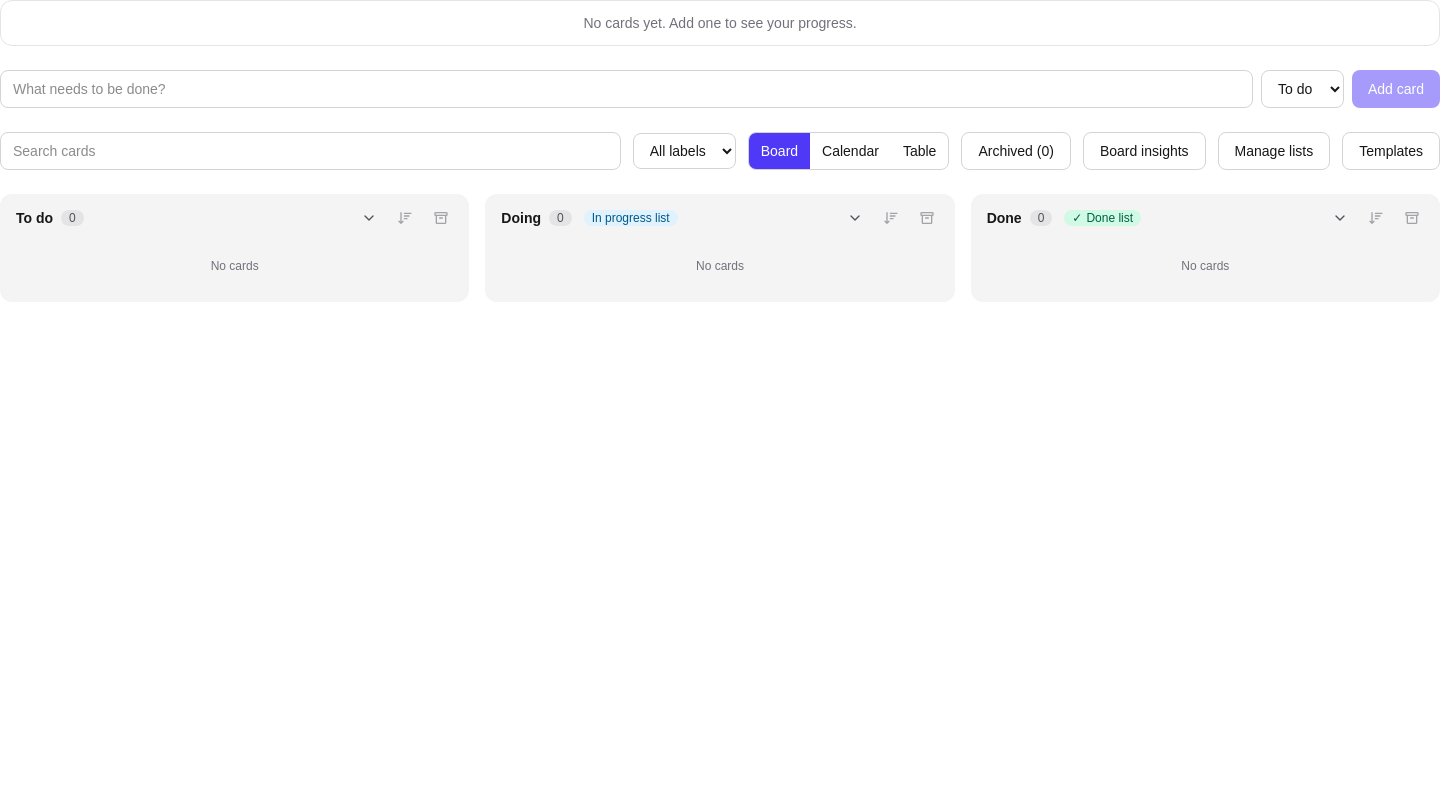
Test: <Board /> custom lists › adds a list
Click the button "Manage lists" at (1274, 151), box [1218,132,1330,170]
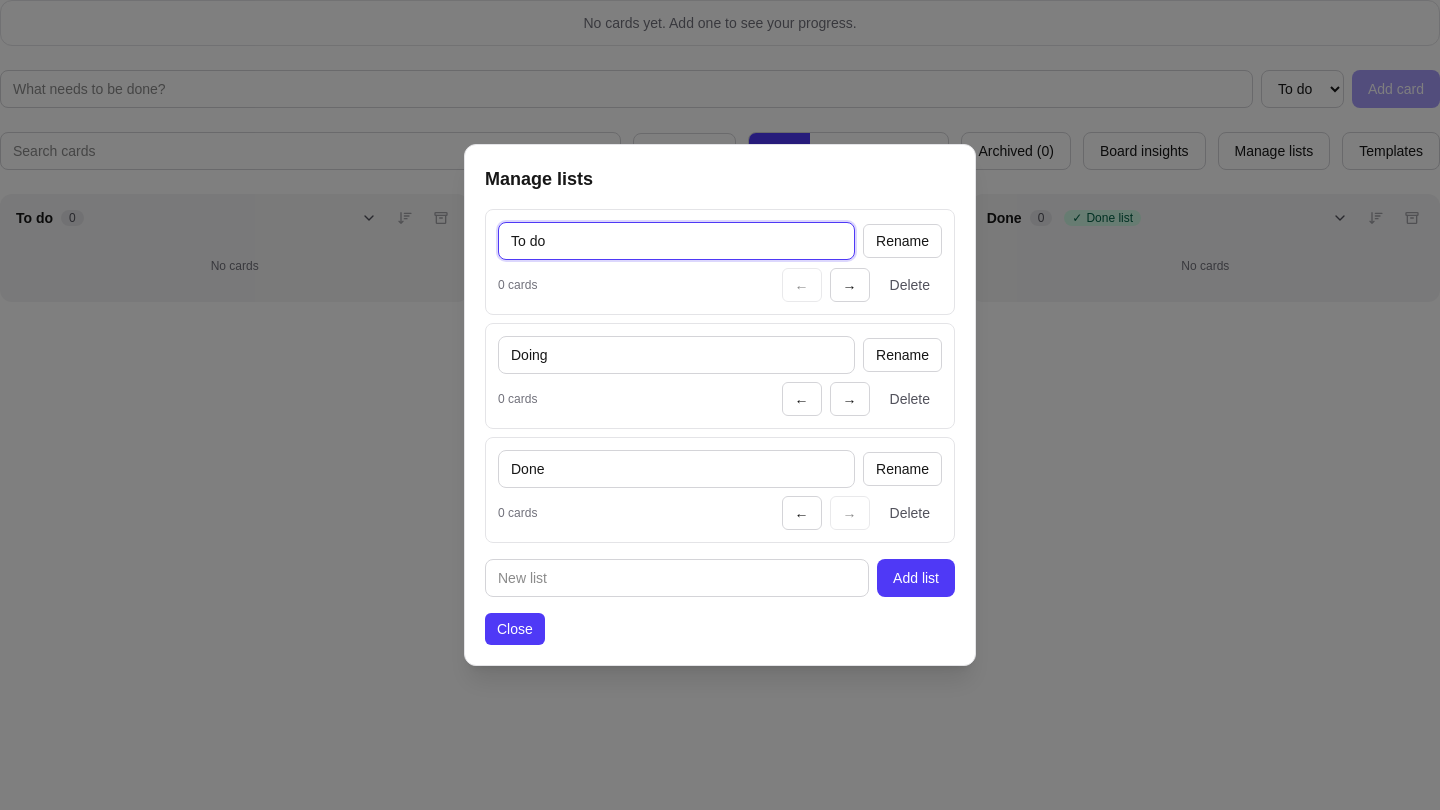
Type "Review" into the field named "New list name" at (677, 578), box [485,559,869,597]
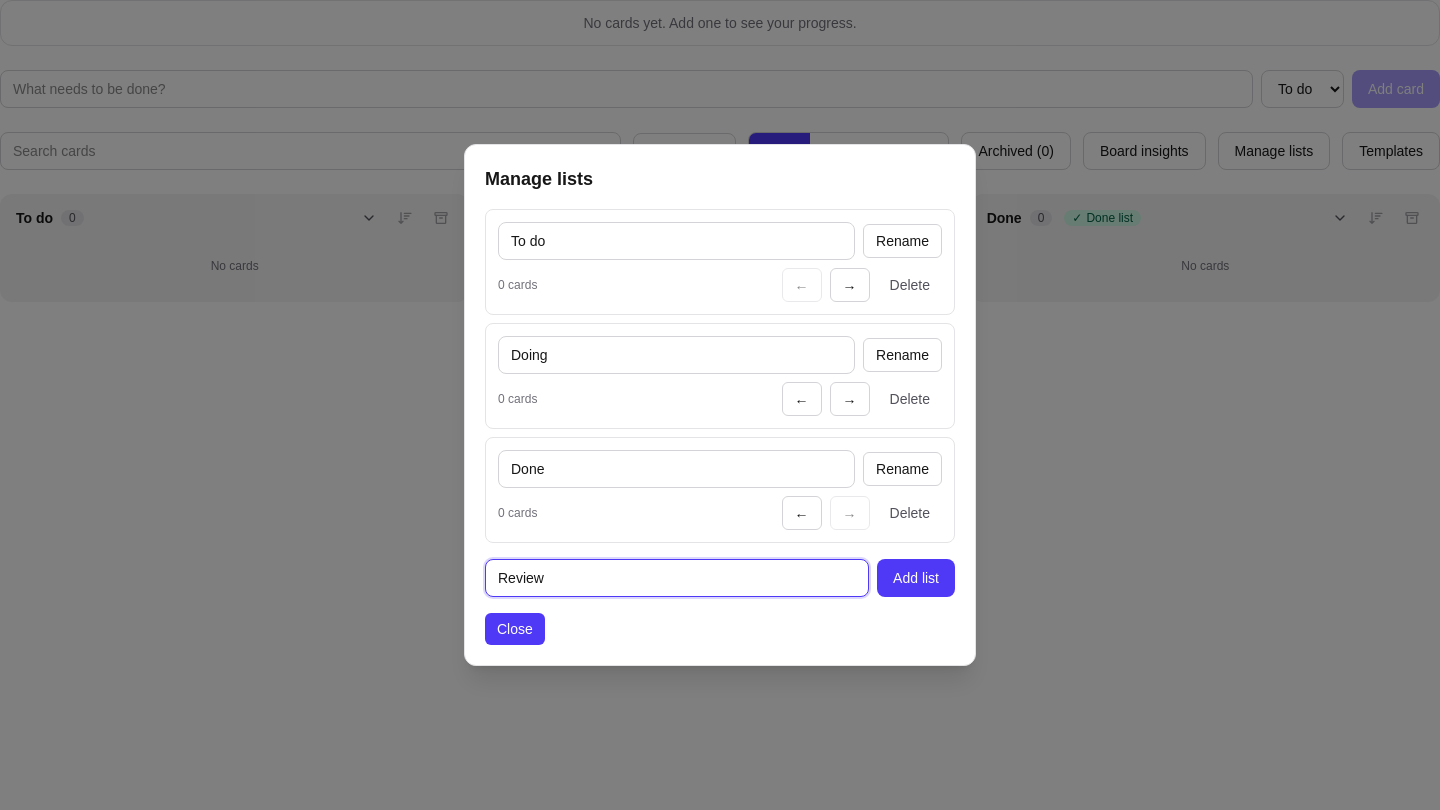
Click the button "Add list" at (916, 578), box [877,559,955,597]
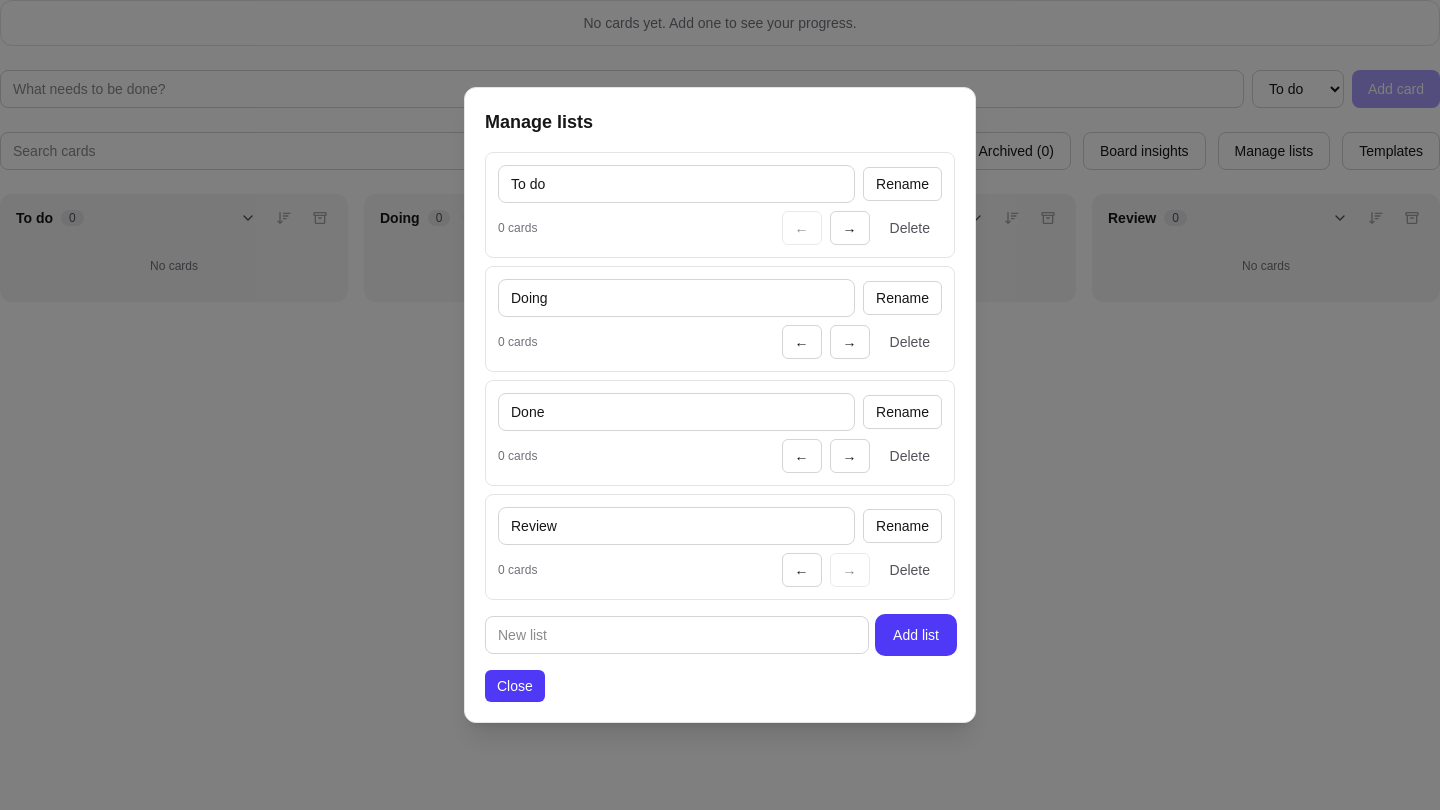
Expected: the text "Review" is shown, [1108,208,1156,228]
Expected: the field named "New list name" is empty, [485,616,869,654]
